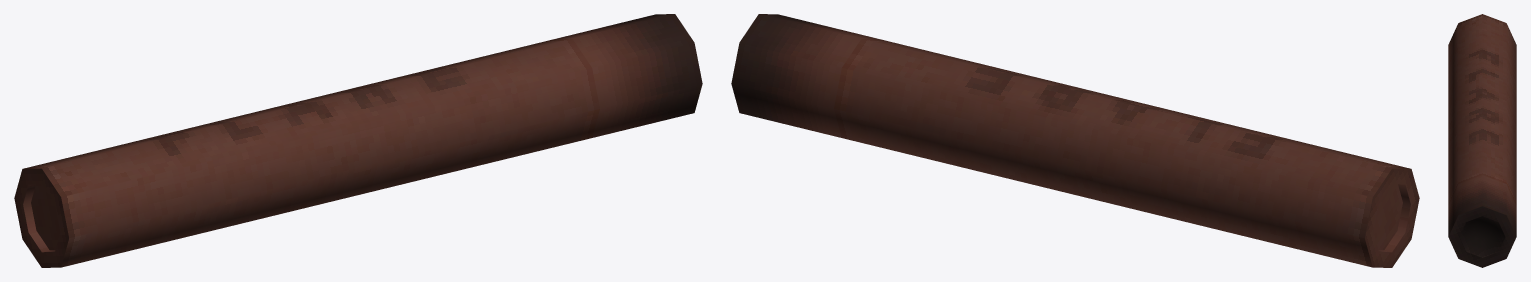
The model's file is flare_mx_1_used.glb.
3 renders of one model, left to right at view 1: azimuth 30°, elevation 25°; view 2: azimuth 150°, elevation 25°; view 3: azimuth 270°, elevation 25°, orthographic. The views are drawn at different scales.
Visible parts, largest first — view 1: flare_mx_1_used; view 2: flare_mx_1_used; view 3: flare_mx_1_used.
Boxes of the visible parts, x1,y1,x2,y2 form: flare_mx_1_used: [14, 14, 702, 267]; flare_mx_1_used: [731, 14, 1419, 267]; flare_mx_1_used: [1448, 14, 1516, 267].
Size of the model in its own units: 0.2 by 0.03 by 0.03.
Materials: 1 (1 with a texture image).
